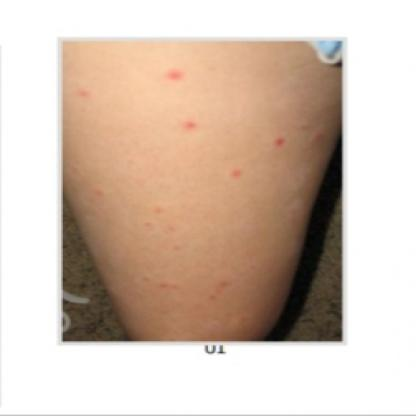Bed Bug: (142, 201, 188, 256), (129, 272, 183, 292), (206, 274, 238, 302), (170, 112, 208, 132), (158, 64, 190, 84), (221, 164, 249, 181), (78, 80, 98, 101), (266, 132, 289, 150), (306, 125, 328, 143), (86, 186, 110, 200), (66, 164, 91, 177)
